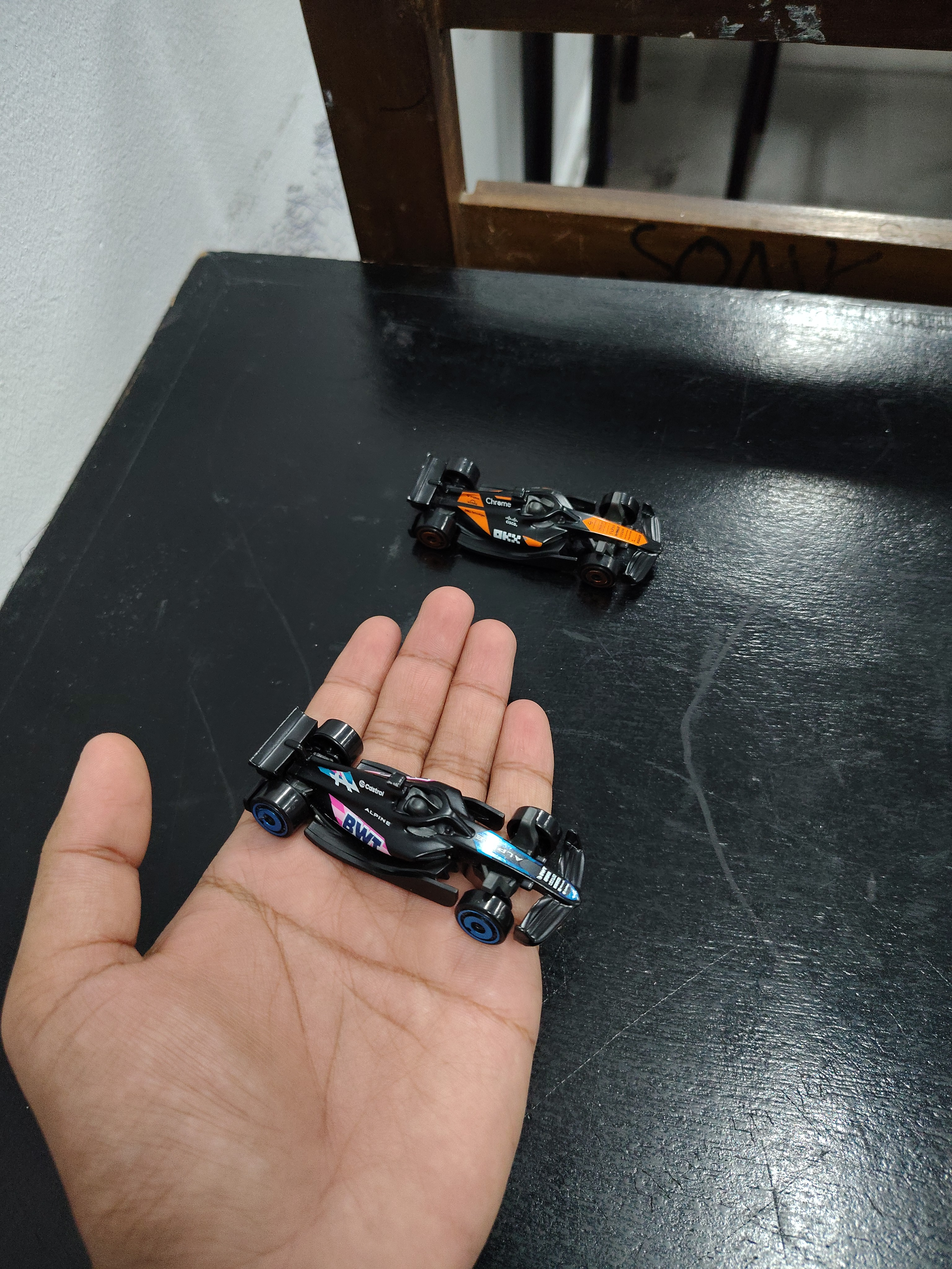Alpine A524: (203, 648, 634, 982)
McLaren MCL40: (372, 397, 679, 586)
